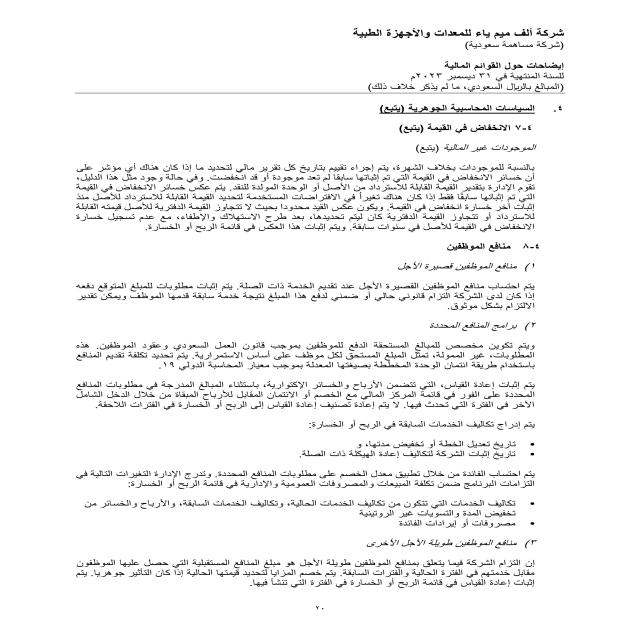notes: (437, 58, 577, 72)
text: (35, 98, 577, 609)
